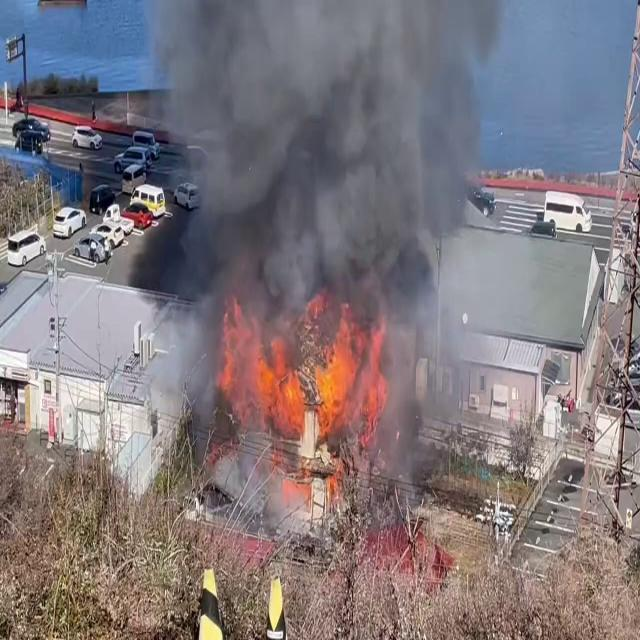Fire: (210, 299, 388, 502)
Smoke: (126, 0, 494, 362)
